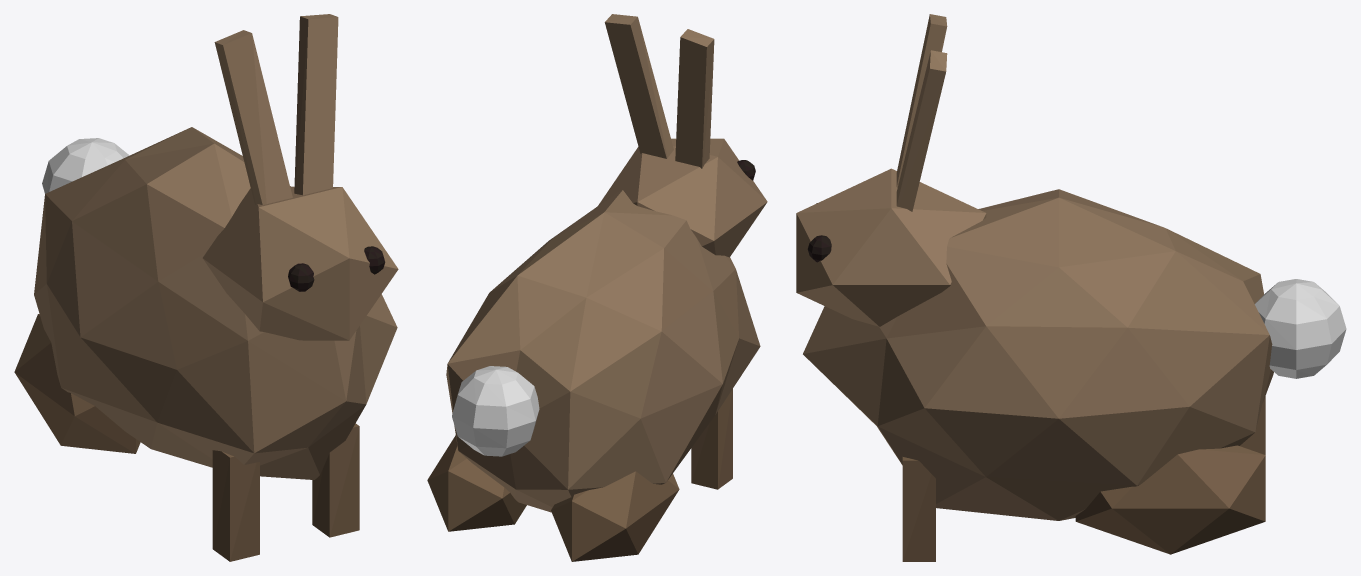
Rendered from bete-lievre.glb.
3 views of the same model, side by side, from view 1: azimuth 30°, elevation 25°; view 2: azimuth 150°, elevation 25°; view 3: azimuth 270°, elevation 25° (orthographic). The views are drawn at different scales.
Bounding box in the file's own units: 0.2497 × 0.45 × 0.4538.
